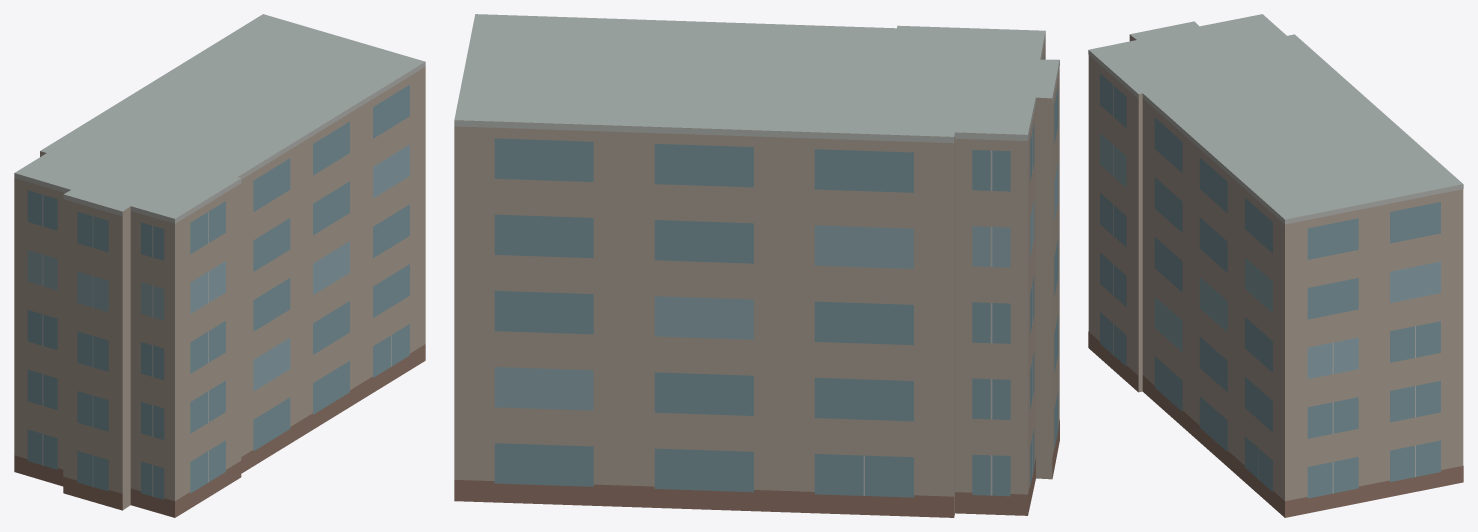
The model's file is survey-upis-32530420.glb.
3 renders of one model, left to right at view 1: azimuth 30°, elevation 25°; view 2: azimuth 150°, elevation 25°; view 3: azimuth 270°, elevation 25°, orthographic. The views are drawn at different scales.
Parts seen in each view (by area): view 1: survey-upis-32530420.tmp; view 2: survey-upis-32530420.tmp; view 3: survey-upis-32530420.tmp.
Part boxes in pixels (x1,y1,x2,y2): survey-upis-32530420.tmp: (14,14,425,517); survey-upis-32530420.tmp: (454,14,1059,517); survey-upis-32530420.tmp: (1088,14,1463,517).
Bounding box in the file's own units: 21.96 × 14.84 × 16.92.
